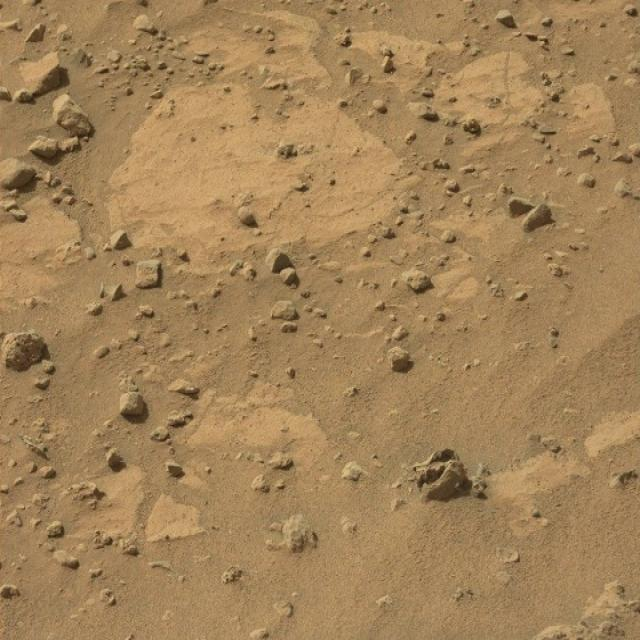mars-rocks: (12, 51, 69, 103), (1, 332, 48, 372), (52, 95, 94, 136), (0, 157, 35, 188)
